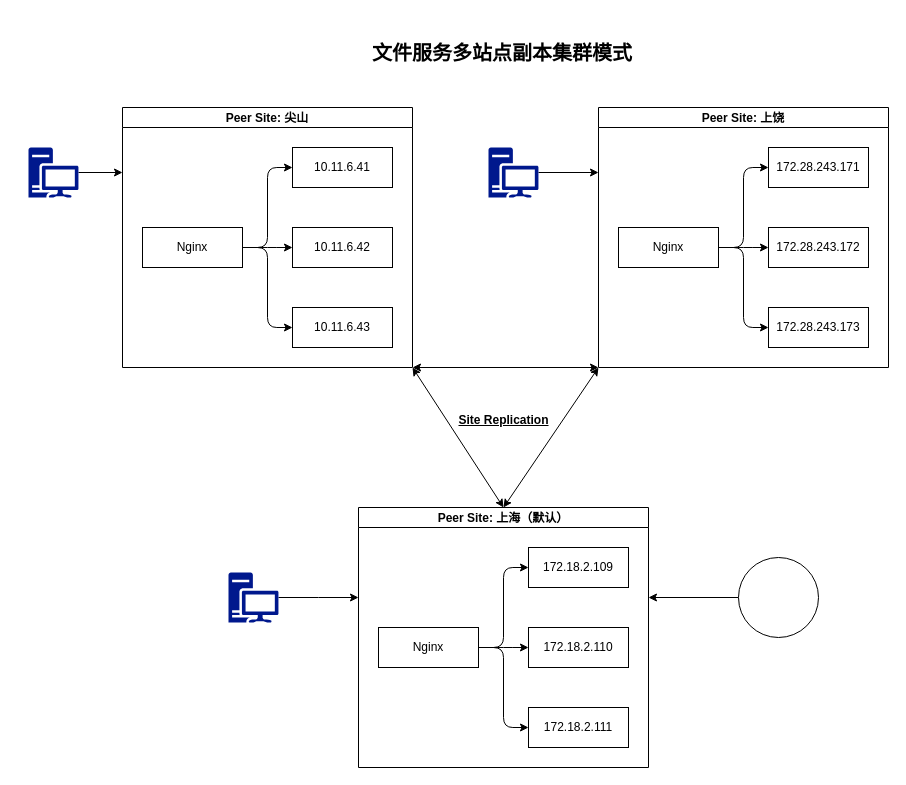
The diagram is 906 pixels wide and 785 high, and some of its shapes have lost their labels. Here are the shapes that lost their labels. From the top down, the centre of each, then its label:
At (x=53, y=172): "尖山职场终端".
At (x=513, y=172): "上饶职场终端".
At (x=253, y=597): "其他区终端".
At (x=778, y=597): "控制台".
